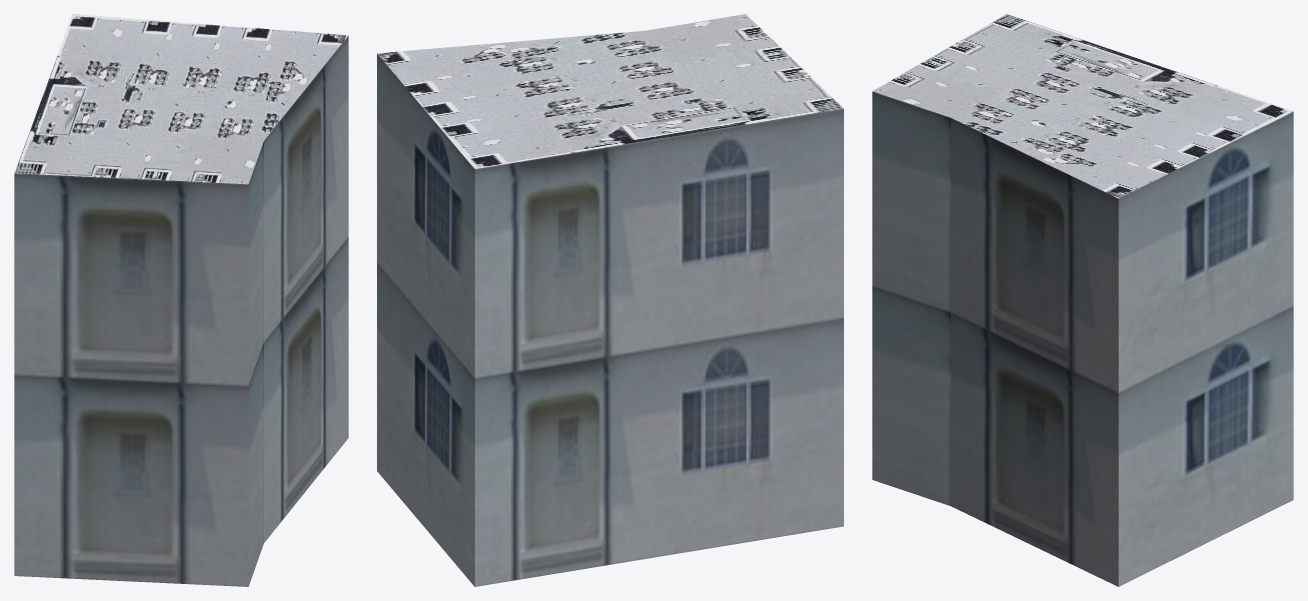
The model's file is ResTex__3749.fbx.
The picture shows the model from 3 angles, left to right: view 1: azimuth 30°, elevation 25°; view 2: azimuth 150°, elevation 25°; view 3: azimuth 270°, elevation 25°; orthographic projection. The views are drawn at different scales.
Parts seen in each view (by area): view 1: CityEngineMaterial_17_m, CityEngineMaterial_m; view 2: CityEngineMaterial_17_m, CityEngineMaterial_m; view 3: CityEngineMaterial_17_m, CityEngineMaterial_m.
Boxes of the visible parts, <box> form: CityEngineMaterial_17_m: <box>14,35,348,586</box>; CityEngineMaterial_m: <box>14,14,348,184</box>; CityEngineMaterial_17_m: <box>377,53,843,586</box>; CityEngineMaterial_m: <box>377,14,843,168</box>; CityEngineMaterial_17_m: <box>872,91,1293,586</box>; CityEngineMaterial_m: <box>872,14,1293,198</box>.
Bounding box in the file's own units: 6.11 × 6 × 5.9.
Materials: 2 (2 with a texture image).
